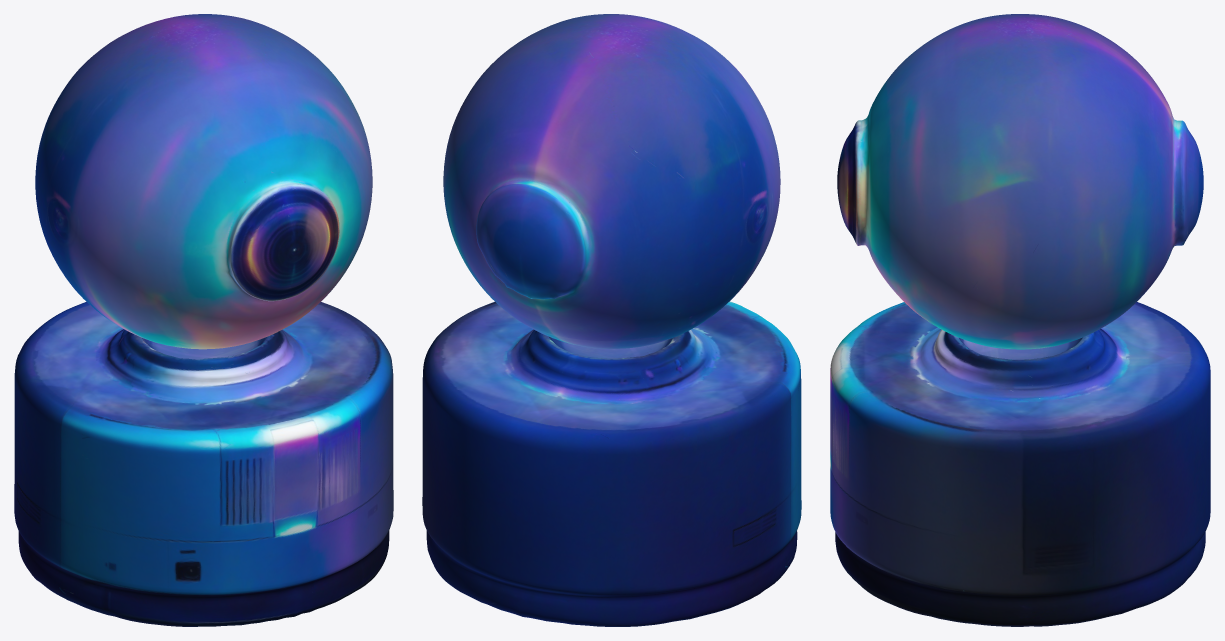
The model's file is hologram.glb.
3 views of the same model, side by side, from view 1: azimuth 30°, elevation 25°; view 2: azimuth 150°, elevation 25°; view 3: azimuth 270°, elevation 25° (orthographic).
Bounding box in the file's own units: 1.31 × 2 × 1.32.
1 material, 1 textured.
